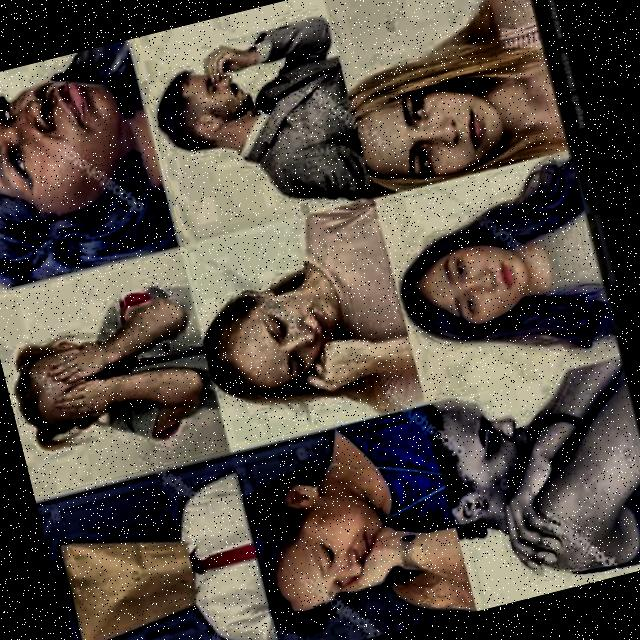sad: (0, 40, 174, 296), (428, 372, 605, 602), (191, 236, 383, 439), (236, 430, 419, 640), (385, 195, 567, 392), (338, 24, 514, 209)
